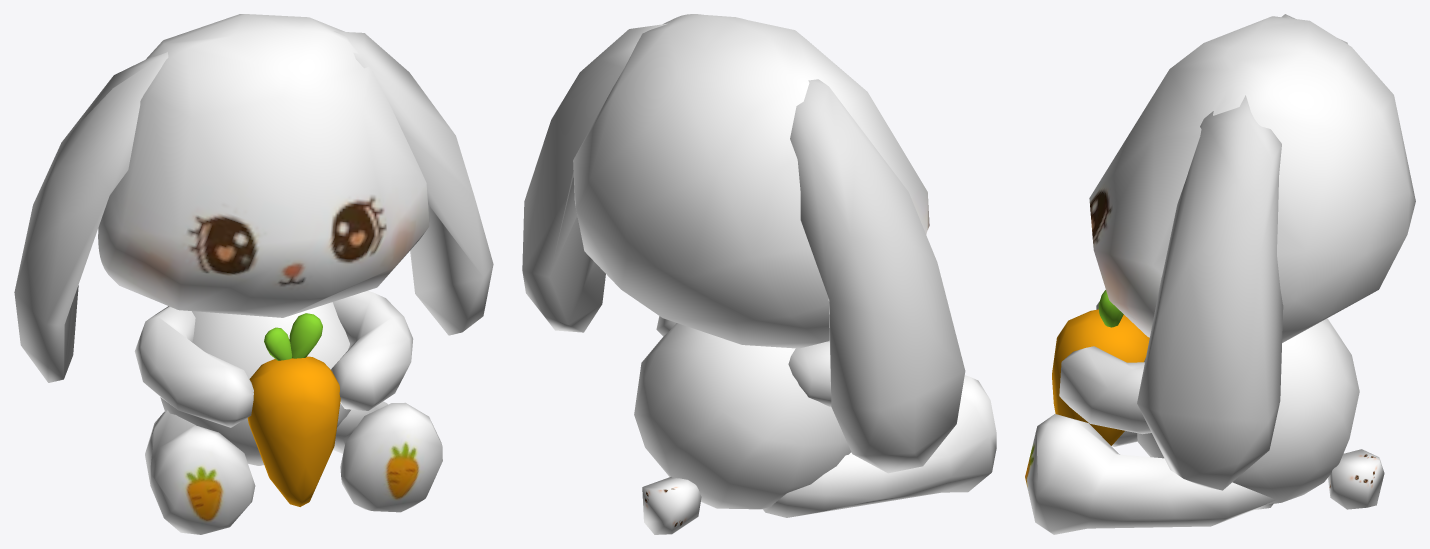
File: Rabbit.glb
3 renders of one model, left to right at view 1: azimuth 30°, elevation 25°; view 2: azimuth 150°, elevation 25°; view 3: azimuth 270°, elevation 25°, orthographic. The views are drawn at different scales.
Parts seen in each view (by area): view 1: Obj3d66-17374355-2-110, Obj3d66-17374355-1-101, Obj3d66-17374355-3-507, Obj3d66-17374355-4-824, Obj3d66-17374355-8-137, Obj3d66-17374355-7-712; view 2: Obj3d66-17374355-2-110, Obj3d66-17374355-1-101, Obj3d66-17374355-3-507, Obj3d66-17374355-4-824; view 3: Obj3d66-17374355-2-110, Obj3d66-17374355-1-101, Obj3d66-17374355-3-507, Obj3d66-17374355-4-824, Obj3d66-17374355-8-137, Obj3d66-17374355-7-712.
Boxes of the visible parts, x1=… form: Obj3d66-17374355-2-110: x1=98, y1=14, x2=429, y2=317; Obj3d66-17374355-1-101: x1=14, y1=31, x2=493, y2=382; Obj3d66-17374355-3-507: x1=134, y1=291, x2=413, y2=465; Obj3d66-17374355-4-824: x1=145, y1=401, x2=442, y2=534; Obj3d66-17374355-8-137: x1=247, y1=356, x2=340, y2=506; Obj3d66-17374355-7-712: x1=264, y1=313, x2=322, y2=360; Obj3d66-17374355-2-110: x1=573, y1=14, x2=929, y2=534; Obj3d66-17374355-1-101: x1=522, y1=23, x2=965, y2=473; Obj3d66-17374355-3-507: x1=634, y1=316, x2=851, y2=509; Obj3d66-17374355-4-824: x1=763, y1=375, x2=996, y2=517; Obj3d66-17374355-2-110: x1=1089, y1=16, x2=1415, y2=509; Obj3d66-17374355-1-101: x1=1137, y1=14, x2=1347, y2=490; Obj3d66-17374355-3-507: x1=1059, y1=301, x2=1359, y2=504; Obj3d66-17374355-4-824: x1=1025, y1=414, x2=1275, y2=534; Obj3d66-17374355-8-137: x1=1052, y1=309, x2=1149, y2=445; Obj3d66-17374355-7-712: x1=1098, y1=290, x2=1123, y2=327.
Size of the model in its own units: 0.9464 by 0.9401 by 0.716.
Materials: 6 (2 with a texture image).
